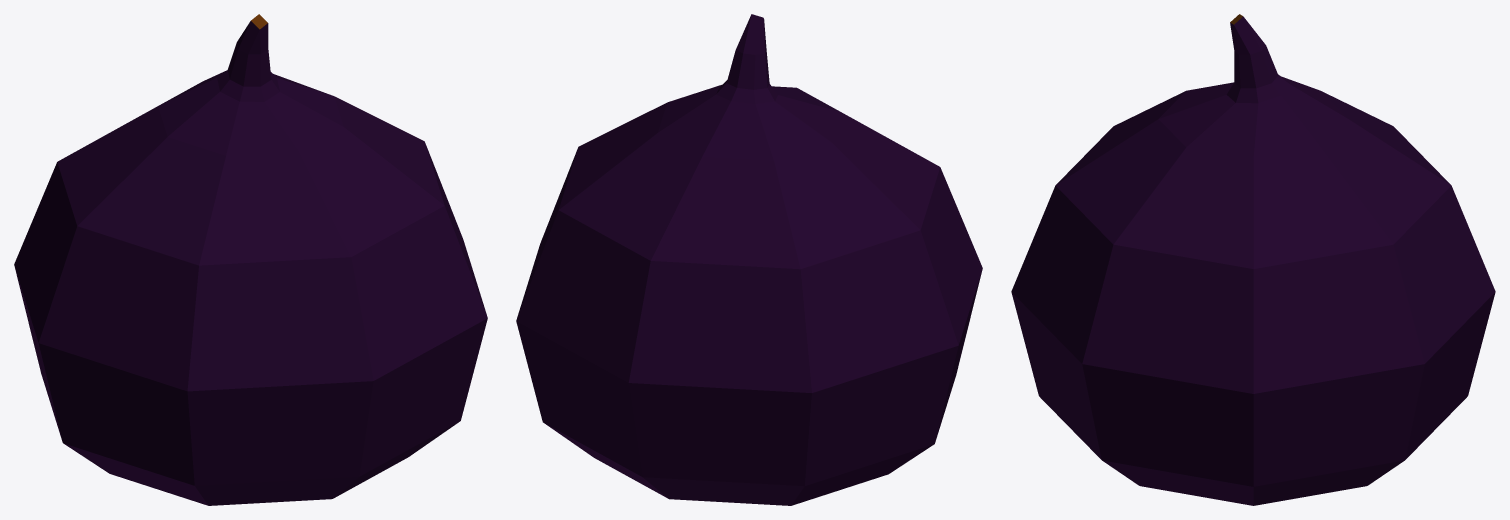
File: fig01.obj
The picture shows the model from 3 angles, left to right: view 1: azimuth 30°, elevation 25°; view 2: azimuth 150°, elevation 25°; view 3: azimuth 270°, elevation 25°; orthographic projection.
Visible parts, largest first — view 1: Cylinder; view 2: Cylinder; view 3: Cylinder.
Boxes of the visible parts, x1=… form: Cylinder: x1=14, y1=14, x2=487, y2=505; Cylinder: x1=516, y1=14, x2=982, y2=505; Cylinder: x1=1011, y1=14, x2=1495, y2=505.
Size of the model in its own units: 0.0495 by 0.0489 by 0.0495.
1 material, 1 textured.
